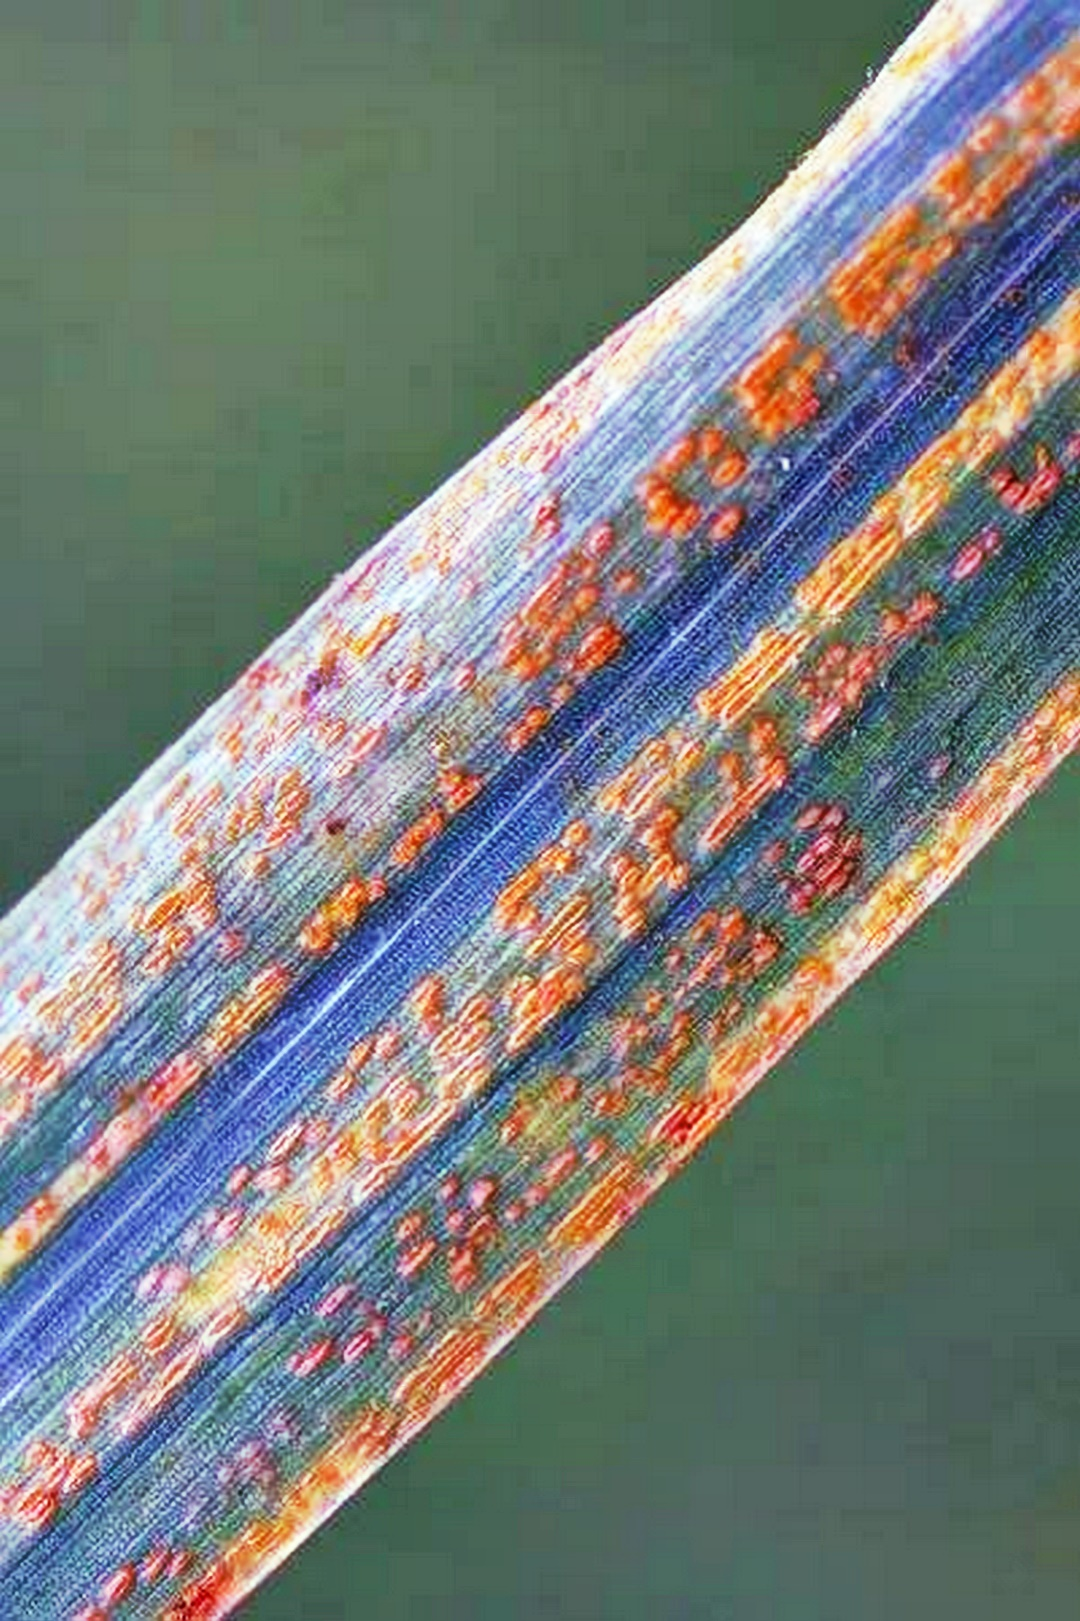Leaf Rust: (30, 206, 1000, 1531)
